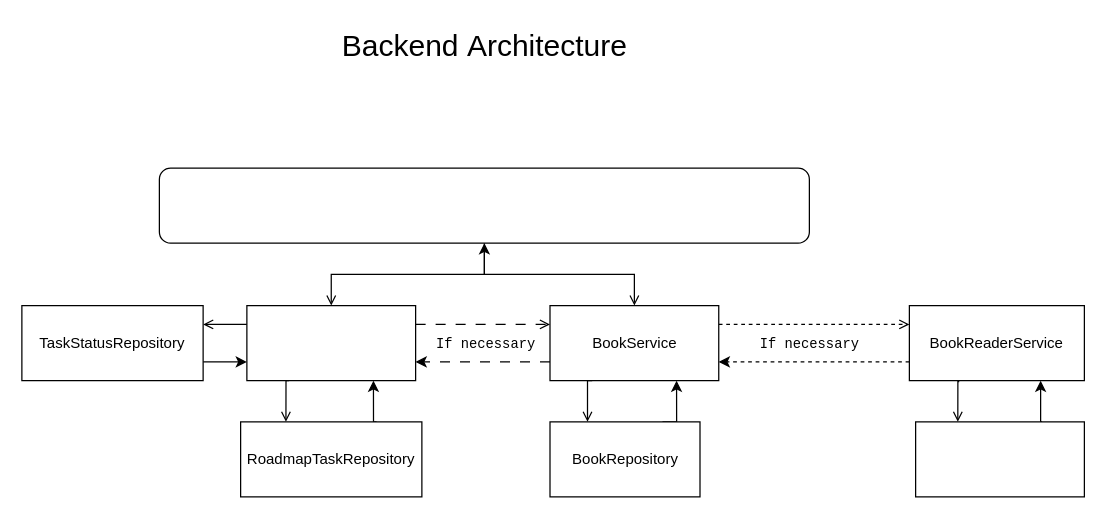
The diagram is 1106 pixels wide and 519 high, and some of its shapes have lost their labels. The centre of each missing label's shape, as x and y in pixels:
RoadmapController: the point at 483,205
RoadmapTaskService: the point at 331,342
S3BucketService: the point at 999,459
